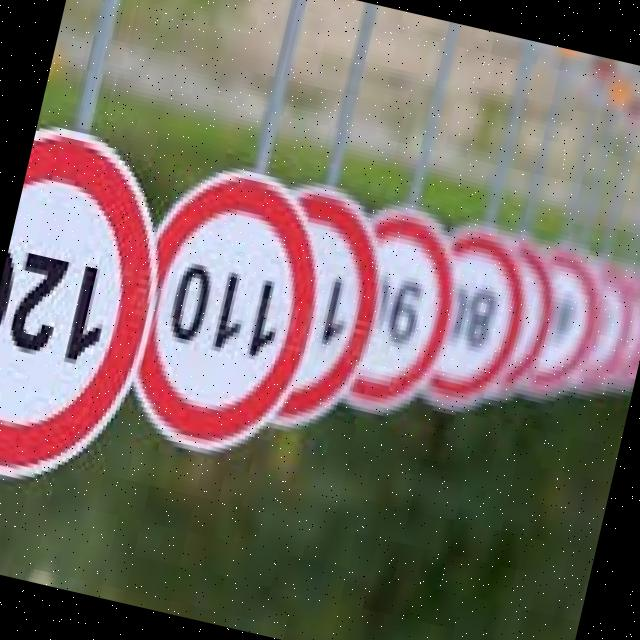speed_limit_120: (0, 114, 193, 505)
